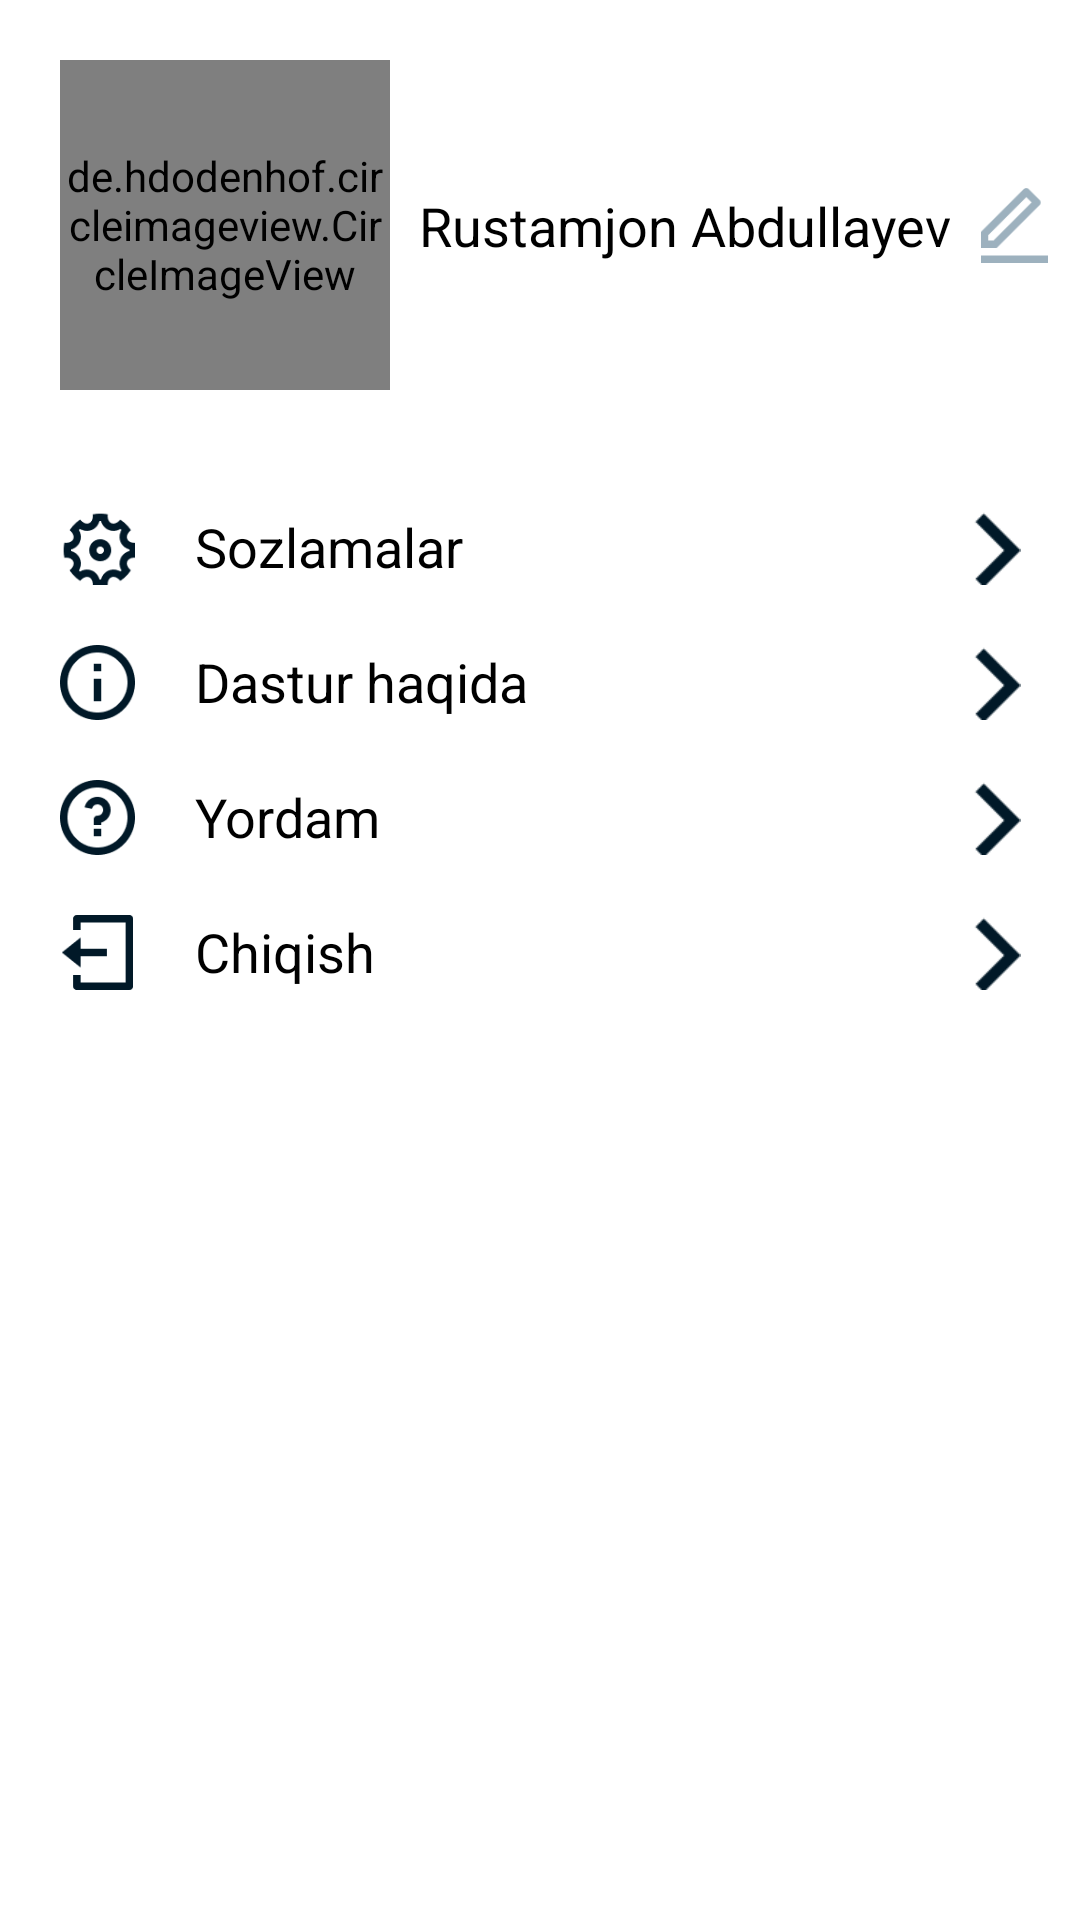

Where icons sit on this 1080*1920 app screen, as {"left": x1, "top": y1, "right": x2, "bottom": y2}:
edit: {"left": 981, "top": 188, "right": 1048, "bottom": 263}
exit: {"left": 62, "top": 915, "right": 133, "bottom": 990}
help: {"left": 60, "top": 780, "right": 135, "bottom": 855}
info: {"left": 60, "top": 645, "right": 135, "bottom": 720}
setting: {"left": 63, "top": 513, "right": 135, "bottom": 585}
